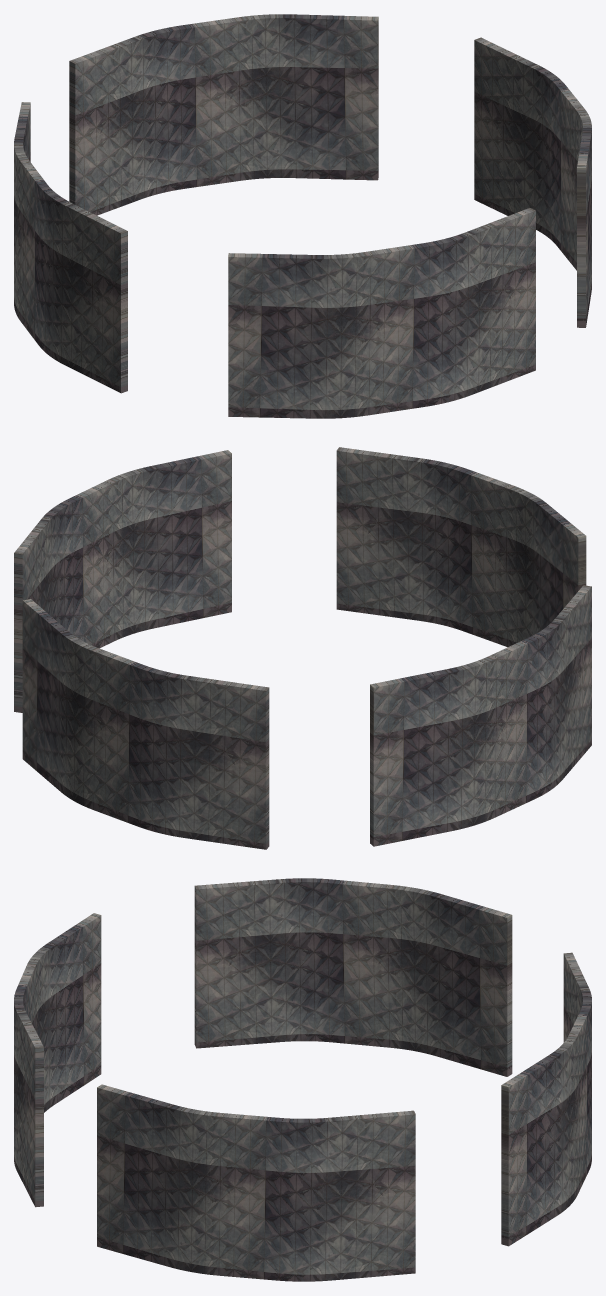
The model's file is wall2.FBX.
3 renders of one model, top to bottom at view 1: azimuth 30°, elevation 25°; view 2: azimuth 150°, elevation 25°; view 3: azimuth 270°, elevation 25°, orthographic.
Parts seen in each view (by area): view 1: seinake005, seinake006, seinake1, seinake007; view 2: seinake006, seinake005, seinake007, seinake1; view 3: seinake1, seinake007, seinake006, seinake005.
Boxes of the visible parts, <box> form: seinake005: <box>228,208,535,418</box>; seinake006: <box>69,14,378,215</box>; seinake1: <box>474,37,591,327</box>; seinake007: <box>14,102,127,393</box>; seinake006: <box>22,599,269,849</box>; seinake005: <box>336,447,586,647</box>; seinake007: <box>370,585,591,846</box>; seinake1: <box>14,450,231,712</box>; seinake1: <box>97,1084,415,1281</box>; seinake007: <box>194,878,512,1076</box>; seinake006: <box>501,952,591,1246</box>; seinake005: <box>14,913,101,1207</box>.
Size of the model in its own units: 233 by 70.87 by 233.
1 material, 1 textured.
